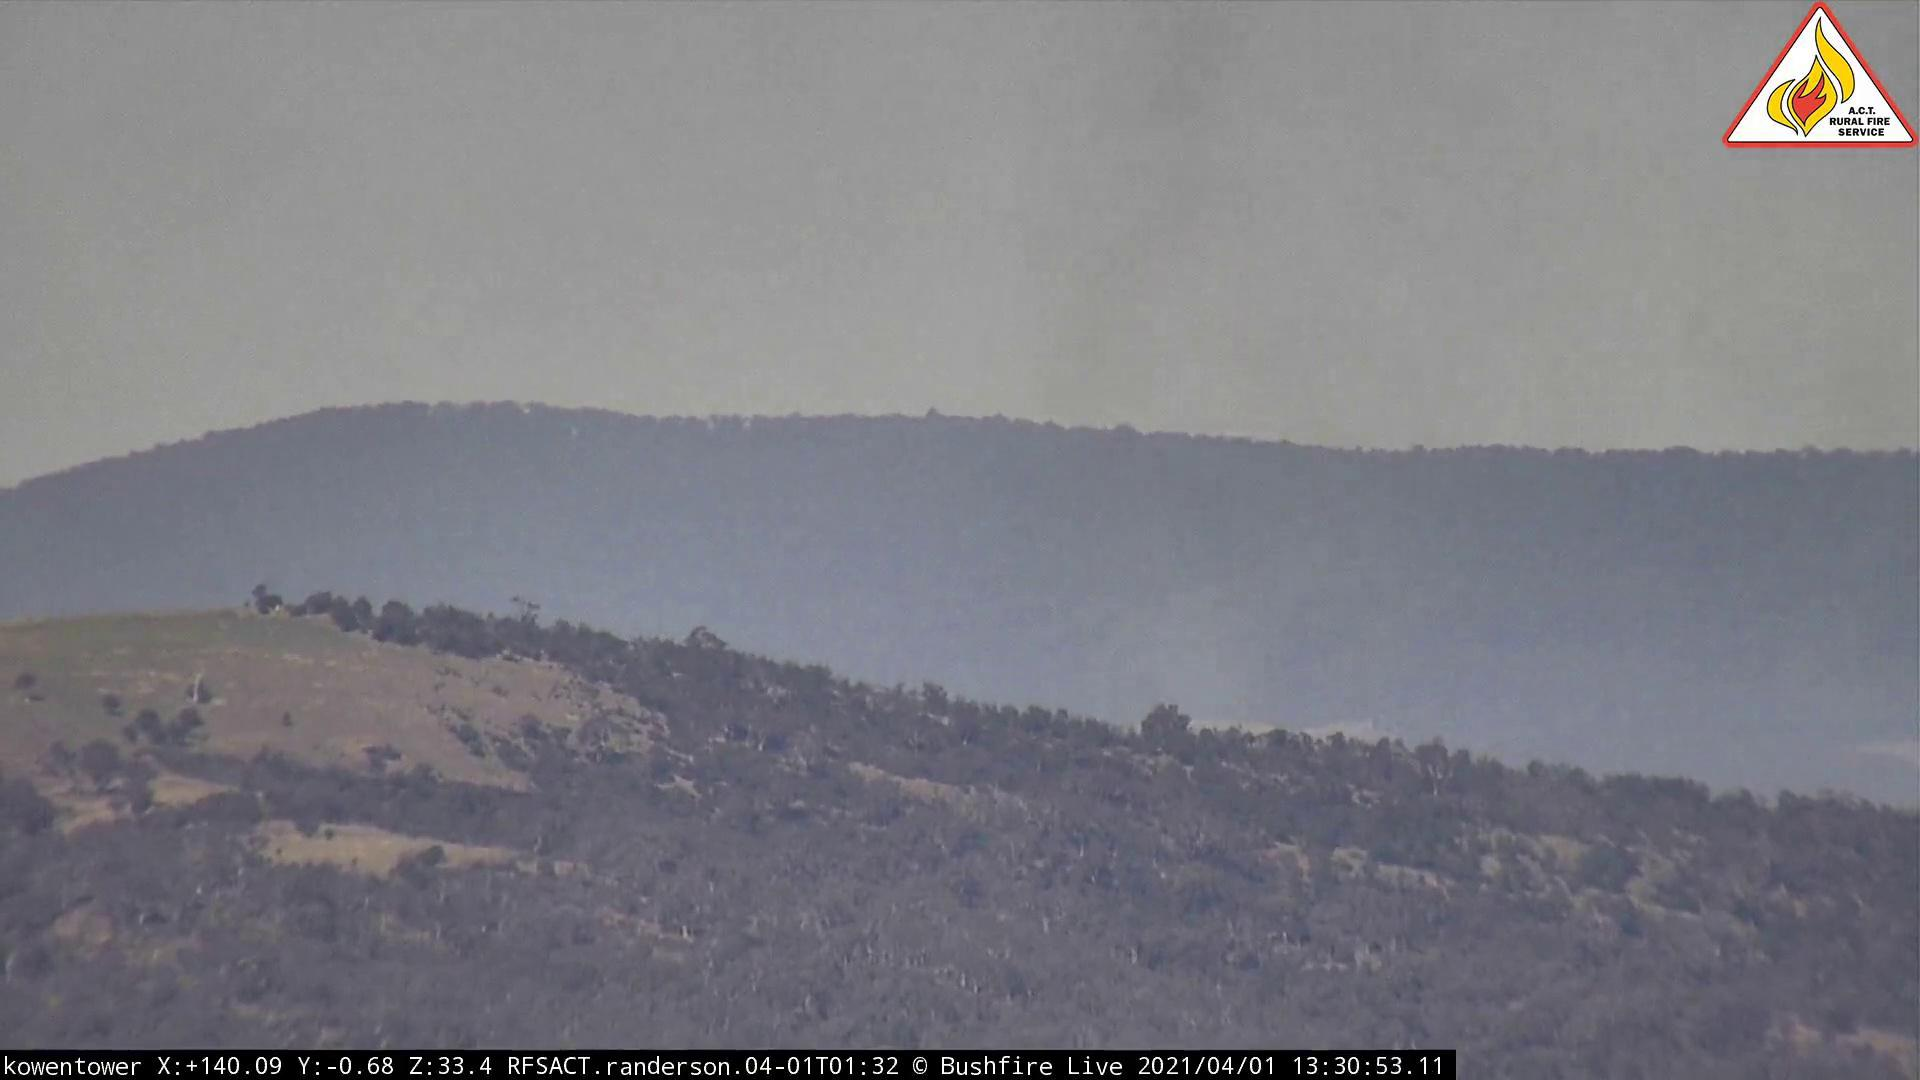instance_salient_object: (960, 3, 1920, 757)
